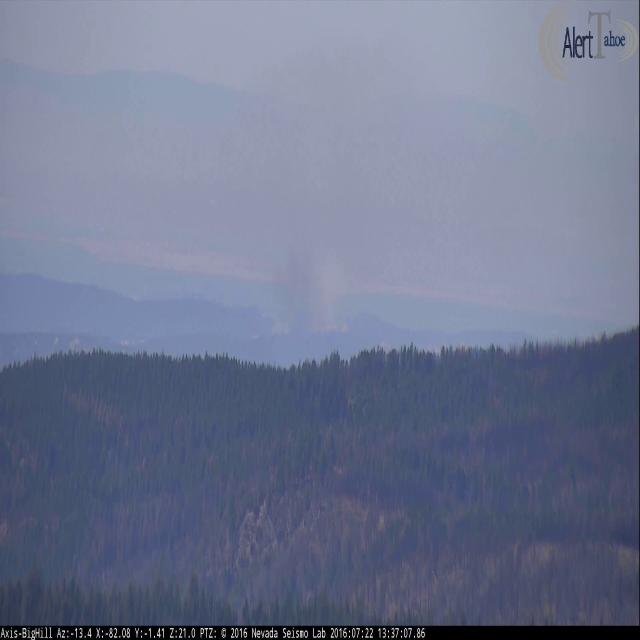smoke: (251, 175, 365, 338)
